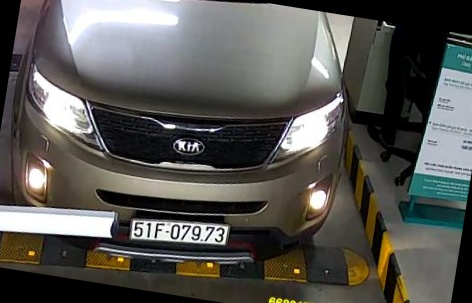plate: (127, 212, 232, 249)
